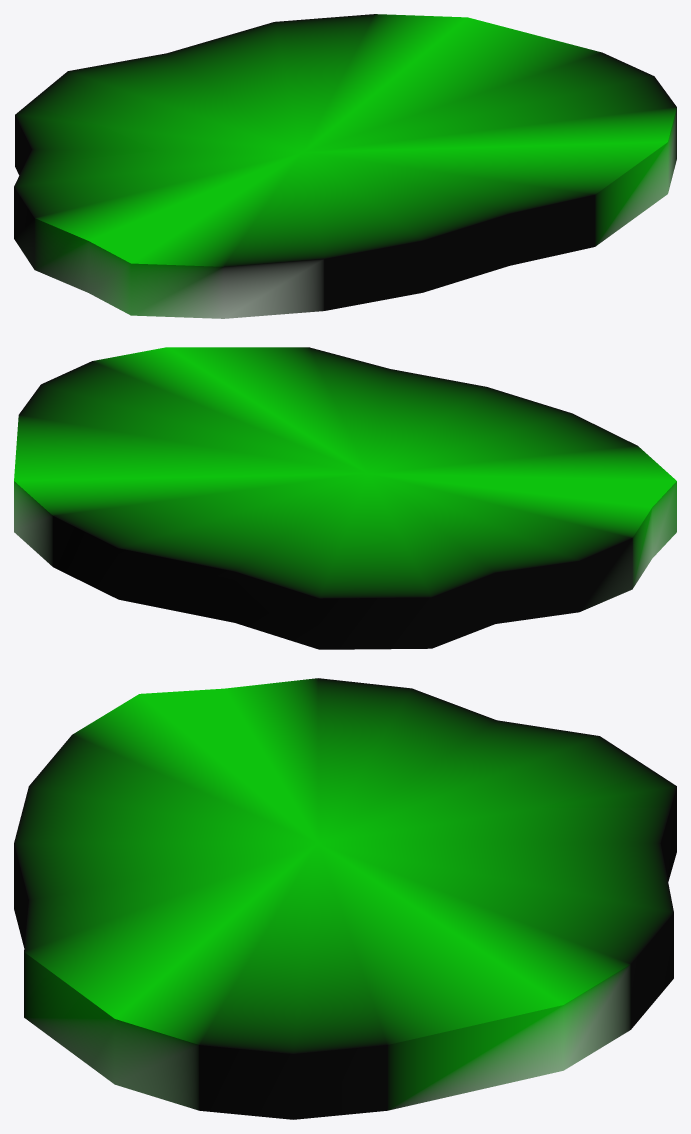
Rendered from Island.fbx.
3 views of the same model, one above another, from view 1: azimuth 30°, elevation 25°; view 2: azimuth 150°, elevation 25°; view 3: azimuth 270°, elevation 25° (orthographic). The views are drawn at different scales.
Parts seen in each view (by area): view 1: island; view 2: island; view 3: island.
Part boxes in pixels (x1,y1,x2,y2): island: (14,14,676,318); island: (14,347,676,649); island: (14,678,676,1119).
Size of the model in its own units: 2906 by 241 by 2166.
